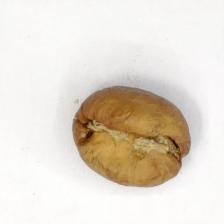NG: (82, 110, 181, 186)
